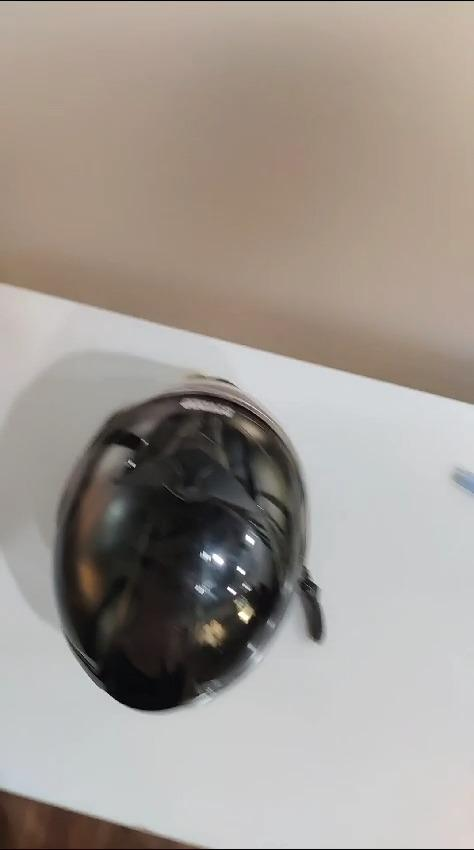Helmet: (66, 382, 295, 740)
